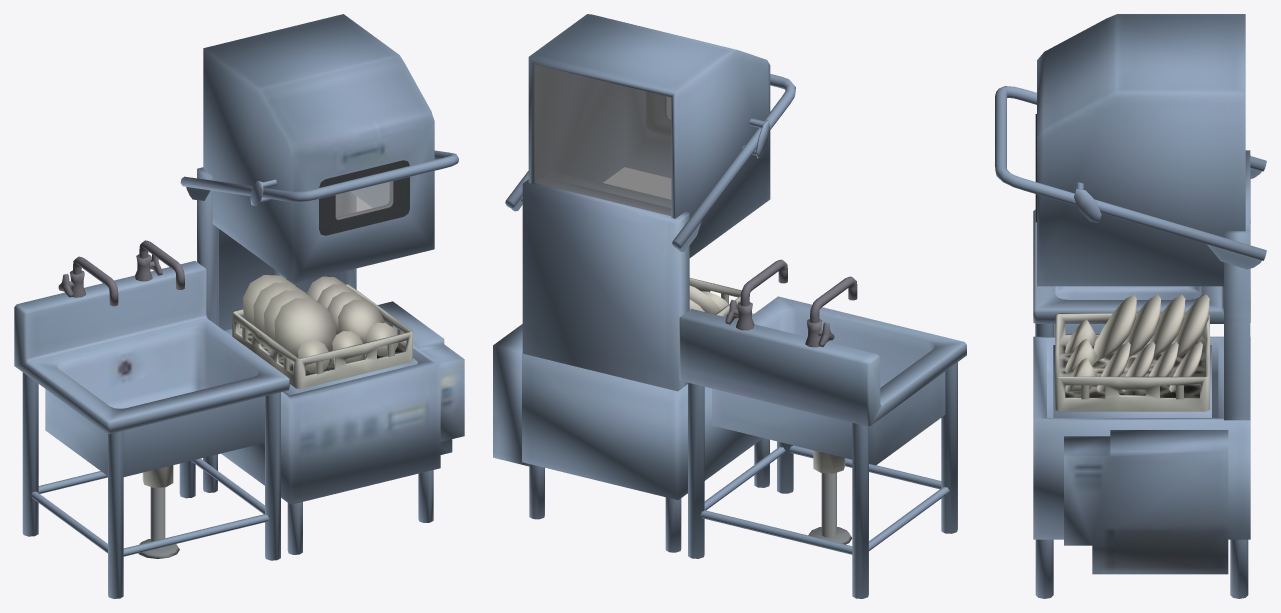
3 renders of one model, left to right at view 1: azimuth 30°, elevation 25°; view 2: azimuth 150°, elevation 25°; view 3: azimuth 270°, elevation 25°, orthographic. The views are drawn at different scales.
Bounding box in the file's own units: 16.71 × 19.02 × 9.27.
Materials: 2 (2 with a texture image).
